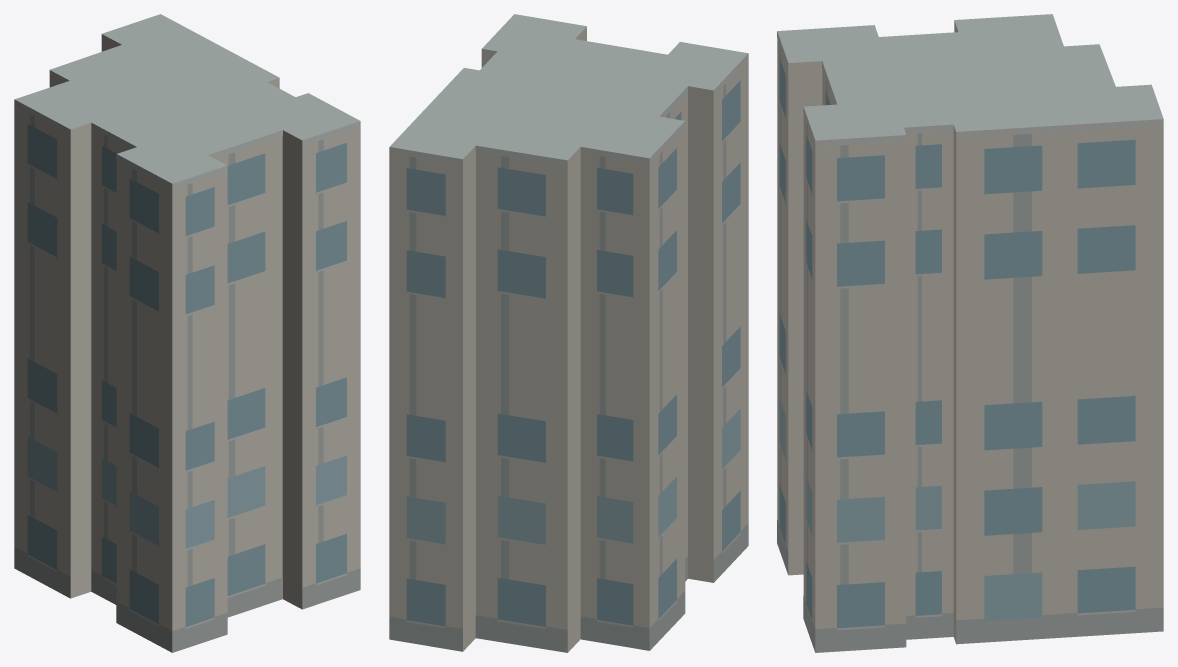
Rendered from survey-upis-32978739.glb.
3 renders of one model, left to right at view 1: azimuth 30°, elevation 25°; view 2: azimuth 150°, elevation 25°; view 3: azimuth 270°, elevation 25°, orthographic. The views are drawn at different scales.
Parts seen in each view (by area): view 1: survey-upis-32978739.tmp; view 2: survey-upis-32978739.tmp; view 3: survey-upis-32978739.tmp.
Part boxes in pixels (x1,y1,x2,y2): survey-upis-32978739.tmp: [14, 14, 360, 652]; survey-upis-32978739.tmp: [389, 14, 748, 652]; survey-upis-32978739.tmp: [777, 14, 1163, 652].
Bounding box in the file's own units: 10.03 × 18.91 × 12.94.
